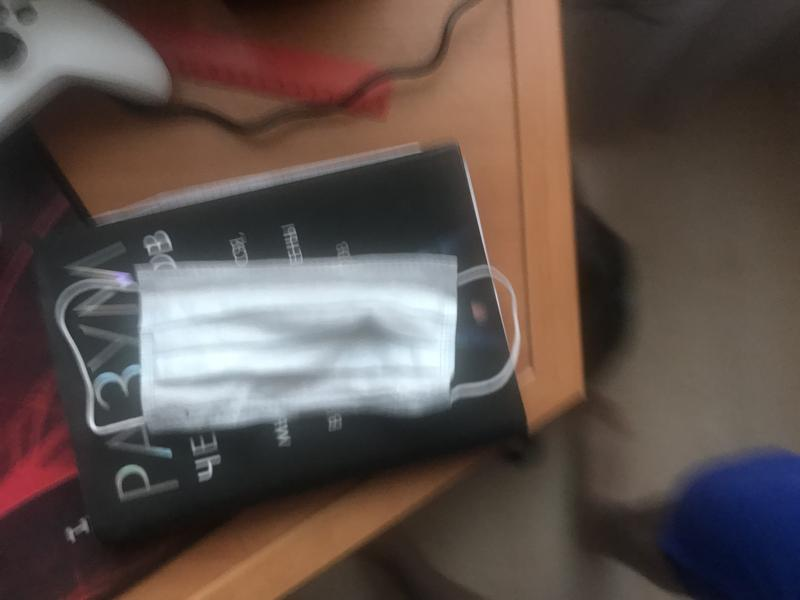medical_mask: (57, 254, 524, 439)
